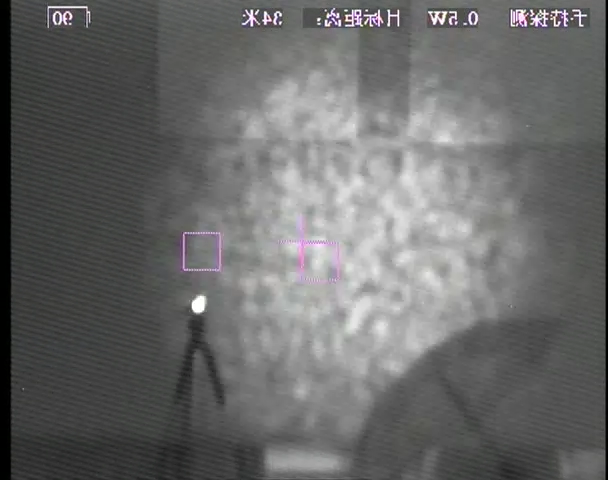my: (189, 292, 209, 314)
